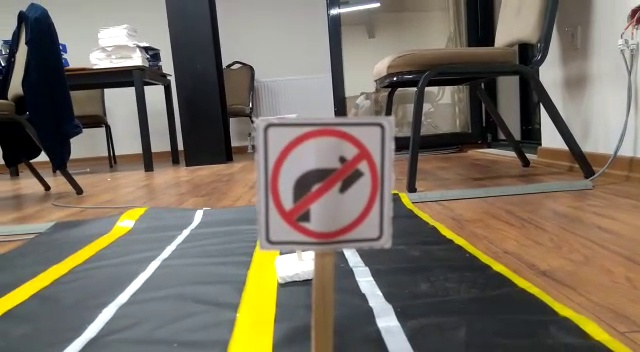saga_donulmez: (261, 122, 385, 242)
